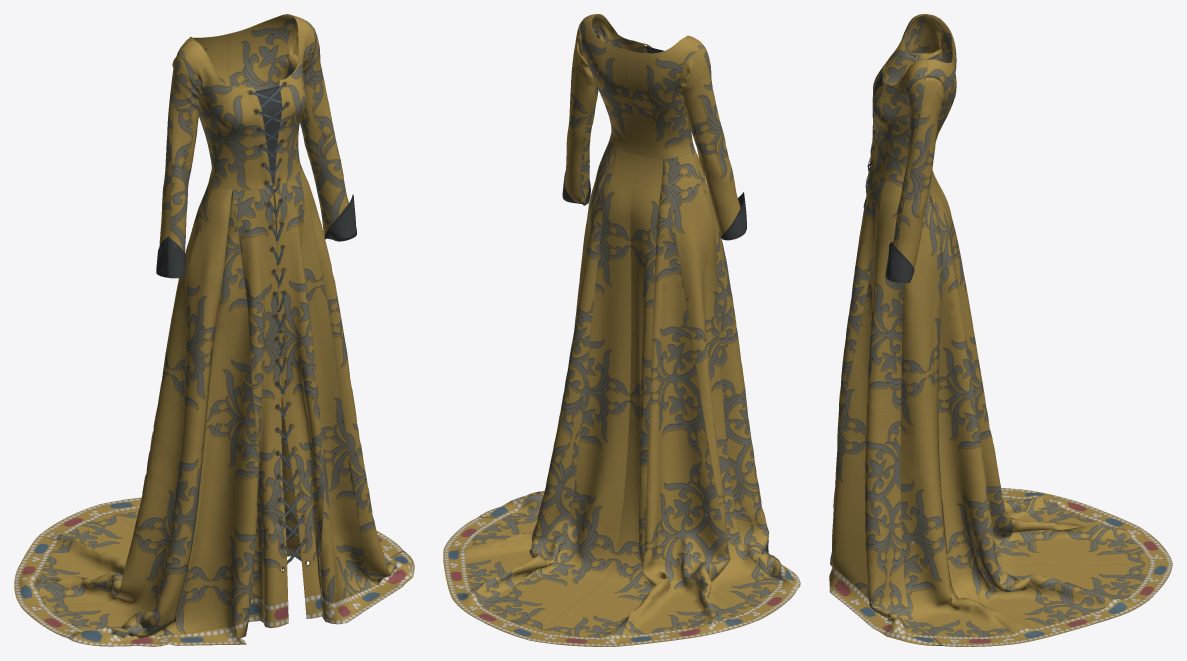
Rendered from dress_3_la_dame_a_la_licorne.glb.
3 renders of one model, left to right at view 1: azimuth 30°, elevation 25°; view 2: azimuth 150°, elevation 25°; view 3: azimuth 270°, elevation 25°, orthographic. The views are drawn at different scales.
Visible parts, largest first — view 1: defaultMaterial (×2); view 2: defaultMaterial (×2); view 3: defaultMaterial (×2).
Part boxes in pixels (<box>): defaultMaterial (×2): <box>14,14,414,646</box>; defaultMaterial (×2): <box>443,14,800,646</box>; defaultMaterial (×2): <box>829,14,1172,646</box>.
Size of the model in its own units: 99.44 by 155 by 90.66.
Materials: 1 (1 with a texture image).
